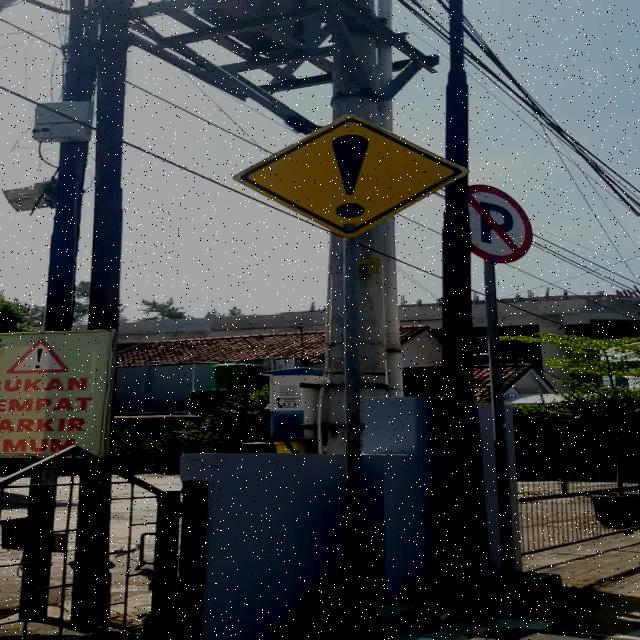Hati-Hati: (232, 114, 469, 238)
